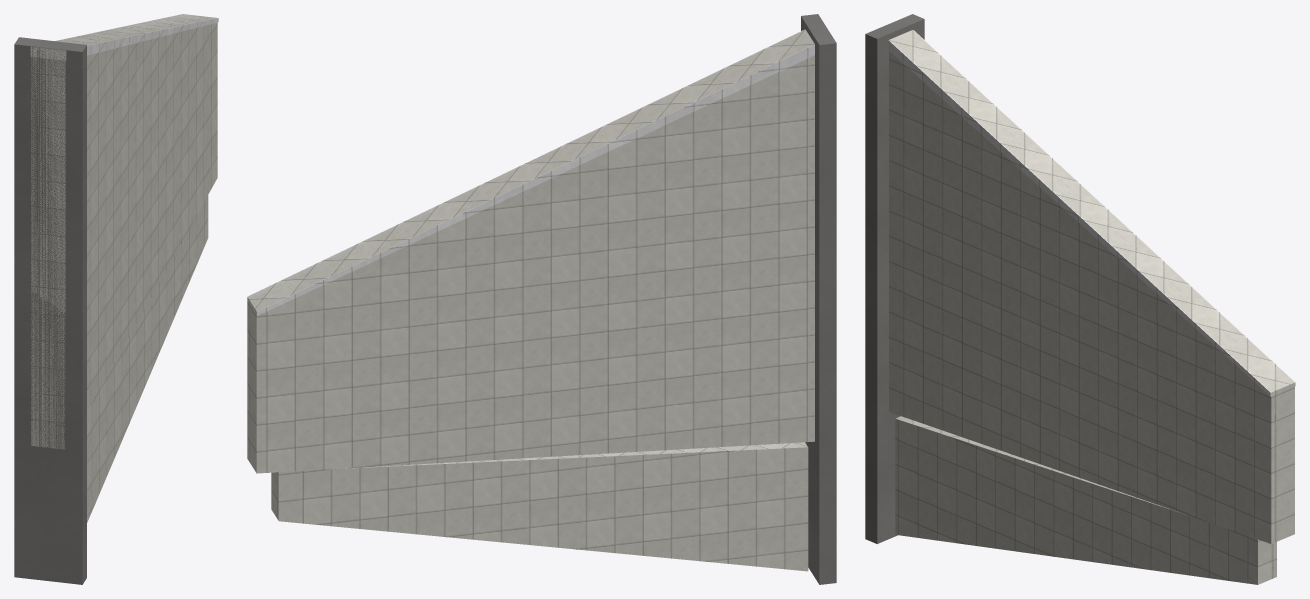
Rendered from aero05_tail_fin_m_vtail.glb.
3 views of the same model, side by side, from view 1: azimuth 30°, elevation 25°; view 2: azimuth 150°, elevation 25°; view 3: azimuth 270°, elevation 25° (orthographic). The views are drawn at different scales.
Parts seen in each view (by area): view 1: fin, root_flange, surface_rudder, fin_le; view 2: fin, surface_rudder, root_flange, fin_le; view 3: fin, surface_rudder, root_flange, fin_le.
Part boxes in pixels (left/top/right/bottom): fin: left=31, top=14, right=217, bottom=449; root_flange: left=14, top=37, right=86, bottom=584; surface_rudder: left=87, top=195, right=208, bottom=522; fin_le: left=30, top=14, right=218, bottom=60; fin: left=247, top=29, right=814, bottom=473; surface_rudder: left=271, top=442, right=808, bottom=571; root_flange: left=801, top=14, right=836, bottom=584; fin_le: left=247, top=29, right=814, bottom=315; fin: left=889, top=30, right=1294, bottom=543; surface_rudder: left=895, top=416, right=1276, bottom=584; root_flange: left=865, top=14, right=924, bottom=543; fin_le: left=888, top=30, right=1295, bottom=396.
Bounding box in the file's own units: 2.32 × 3 × 2.32.
Materials: 3 (3 with a texture image).
